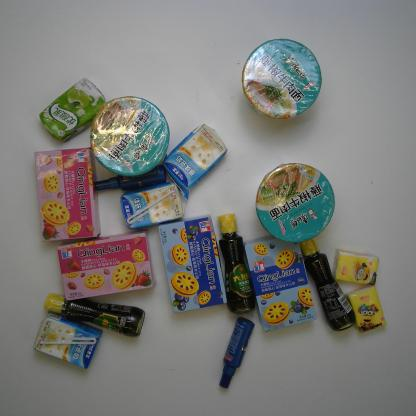Dessert: (240, 232, 320, 334), (54, 228, 159, 303), (156, 212, 228, 315), (31, 145, 103, 243)
Instant Noodles: (237, 34, 325, 124), (252, 160, 338, 247), (86, 92, 172, 178)
Milk: (161, 120, 229, 202), (36, 76, 108, 144), (31, 309, 106, 372), (118, 180, 187, 231)
Personal Hygiene: (215, 316, 258, 392), (92, 164, 168, 193)
Seasoner: (298, 236, 358, 333), (41, 290, 148, 338), (216, 209, 259, 315)
Tissue: (345, 284, 390, 336), (331, 247, 381, 288)
